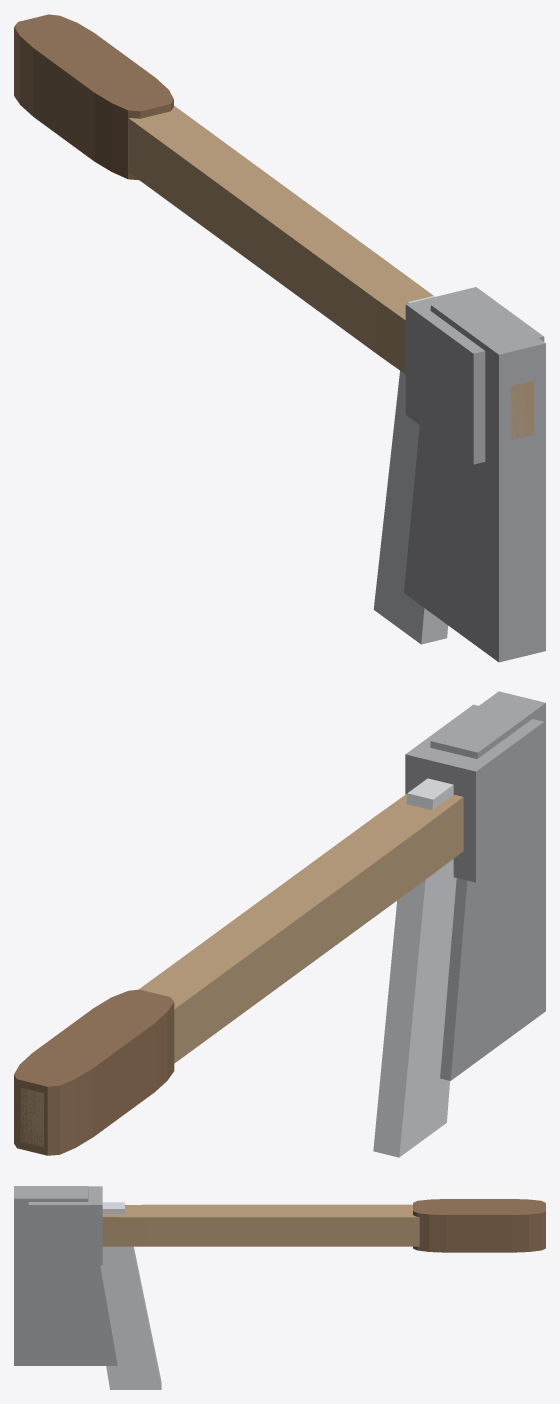
Rendered from prop_axe.glb.
The picture shows the model from 3 angles, top to bottom: view 1: azimuth 30°, elevation 25°; view 2: azimuth 150°, elevation 25°; view 3: azimuth 270°, elevation 25°; orthographic projection. The views are drawn at different scales.
Parts seen in each view (by area): view 1: Arm.R.Lower.Tool.Head, Arm.R.Lower.Tool.Handle, Arm.R.Lower.Tool.Grip, Arm.R.Lower.Tool.Wedge, Arm.R.Lower.Tool.Edge; view 2: Arm.R.Lower.Tool.Handle, Arm.R.Lower.Tool.Head, Arm.R.Lower.Tool.Edge, Arm.R.Lower.Tool.Grip, Arm.R.Lower.Tool.Wedge; view 3: Arm.R.Lower.Tool.Handle, Arm.R.Lower.Tool.Head, Arm.R.Lower.Tool.Grip, Arm.R.Lower.Tool.Edge, Arm.R.Lower.Tool.Wedge.
Boxes of the visible parts, box(x1,y1,x2,y2) form: Arm.R.Lower.Tool.Head: box(404, 293, 545, 662); Arm.R.Lower.Tool.Handle: box(128, 106, 534, 440); Arm.R.Lower.Tool.Grip: box(14, 14, 173, 180); Arm.R.Lower.Tool.Wedge: box(405, 287, 544, 464); Arm.R.Lower.Tool.Edge: box(373, 296, 448, 644); Arm.R.Lower.Tool.Handle: box(20, 794, 463, 1147); Arm.R.Lower.Tool.Head: box(430, 691, 545, 1080); Arm.R.Lower.Tool.Edge: box(373, 778, 456, 1157); Arm.R.Lower.Tool.Grip: box(14, 989, 174, 1155); Arm.R.Lower.Tool.Wedge: box(405, 704, 544, 882); Arm.R.Lower.Tool.Handle: box(102, 1204, 419, 1246); Arm.R.Lower.Tool.Head: box(14, 1186, 117, 1365); Arm.R.Lower.Tool.Grip: box(413, 1199, 545, 1252); Arm.R.Lower.Tool.Edge: box(100, 1202, 161, 1389); Arm.R.Lower.Tool.Wedge: box(28, 1186, 102, 1265).
Bounding box in the file's own units: 0.06 × 0.29 × 0.72.
